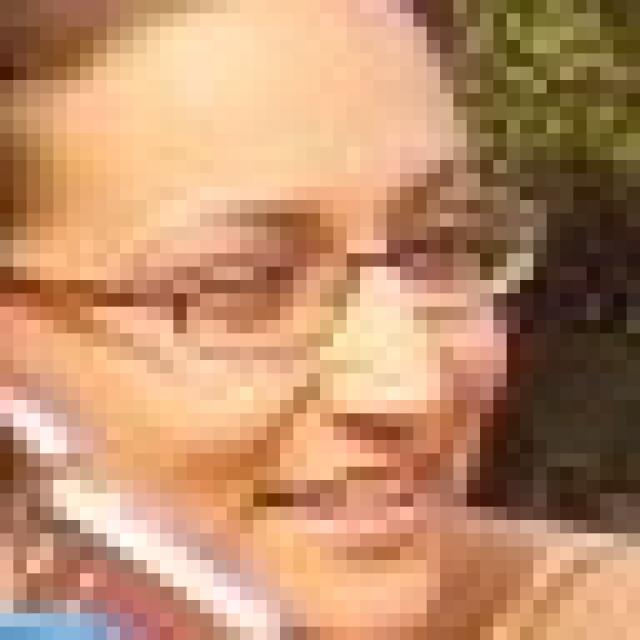Eyeclosed: (190, 255, 277, 316), (399, 222, 468, 270)
